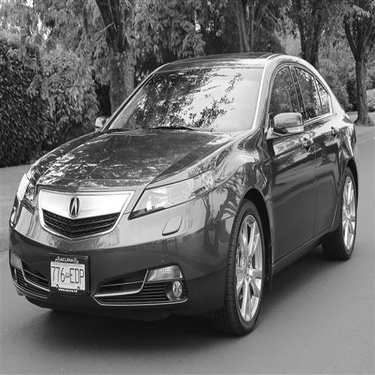car: (7, 48, 365, 338)
